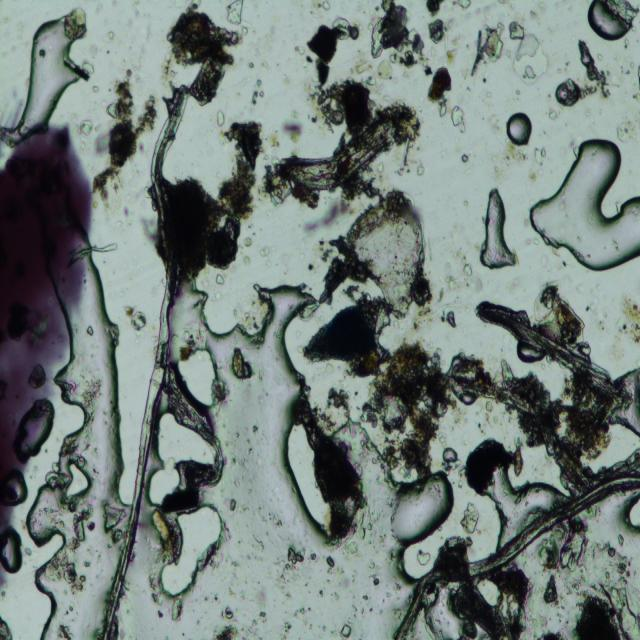Air bubble: (32, 304, 128, 636), (183, 274, 314, 404), (528, 139, 640, 276), (0, 21, 78, 146), (484, 470, 563, 553), (371, 466, 451, 546), (147, 414, 213, 510), (158, 504, 224, 597), (282, 422, 336, 534), (479, 187, 516, 269), (176, 349, 222, 409), (582, 421, 640, 468), (586, 0, 631, 41), (63, 461, 91, 500), (0, 525, 23, 572), (504, 114, 532, 146), (476, 577, 504, 608), (621, 493, 640, 535), (517, 342, 546, 366), (440, 445, 460, 465)
Background material: (164, 117, 266, 288), (311, 190, 431, 317), (369, 342, 449, 482), (292, 397, 370, 539), (92, 69, 157, 200), (164, 3, 240, 106), (531, 277, 591, 352), (370, 0, 424, 83), (449, 582, 523, 636), (555, 38, 609, 111), (307, 17, 359, 87), (575, 584, 640, 638), (309, 84, 375, 136), (464, 440, 528, 490), (386, 101, 424, 175), (426, 65, 464, 136), (548, 521, 594, 578), (509, 20, 549, 85), (470, 21, 506, 80), (596, 532, 634, 586), (486, 566, 532, 610), (300, 196, 353, 232), (147, 505, 181, 560), (42, 558, 87, 594), (613, 291, 640, 344), (64, 502, 96, 544), (444, 258, 478, 294), (102, 499, 125, 546), (494, 142, 524, 177), (228, 344, 254, 381), (326, 383, 354, 417), (427, 0, 447, 45), (460, 498, 480, 537), (124, 304, 147, 331), (282, 543, 304, 571), (0, 610, 20, 640), (335, 614, 356, 640), (283, 118, 303, 145), (545, 575, 561, 608), (362, 568, 382, 594), (250, 75, 265, 108), (170, 594, 188, 621), (617, 121, 639, 143), (225, 1, 245, 24), (211, 622, 239, 638), (321, 551, 337, 575), (534, 142, 550, 166), (415, 545, 431, 568), (245, 419, 261, 434), (216, 108, 227, 128), (452, 1, 474, 11), (444, 309, 456, 327), (228, 497, 240, 514), (459, 152, 469, 164), (217, 272, 225, 286)
Cellulose filter fibre: (101, 88, 188, 639), (394, 470, 640, 638), (447, 372, 591, 493), (478, 304, 618, 392), (165, 361, 227, 513), (274, 119, 390, 198)
Fragment: (304, 301, 376, 366)
Pen: (0, 128, 94, 535)
